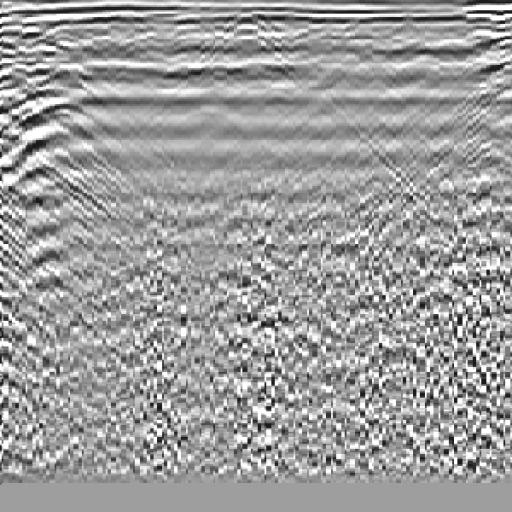metalic: (4, 81, 124, 310)
